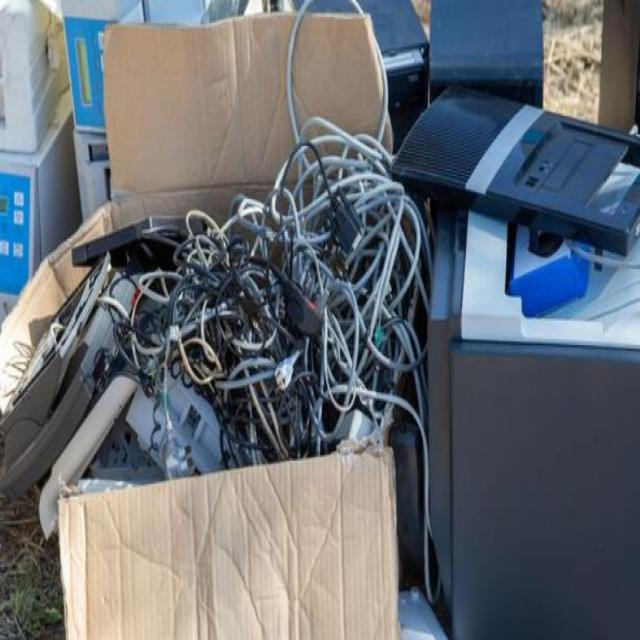electronic: (41, 105, 458, 580)
